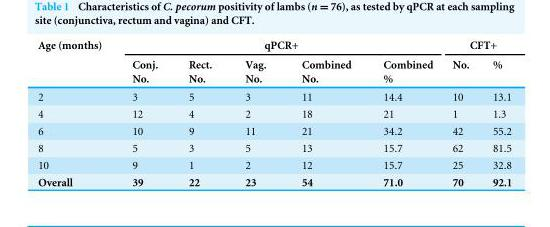table: (37, 37, 511, 188)
table column: (283, 37, 366, 188), (37, 37, 116, 188), (366, 37, 441, 188), (116, 37, 172, 188), (227, 37, 283, 188), (172, 37, 227, 188), (441, 37, 480, 188), (480, 37, 511, 188)
table column header: (37, 37, 511, 86)
table row: (37, 53, 511, 86), (37, 86, 511, 104), (37, 104, 511, 121), (37, 121, 511, 138), (37, 138, 511, 155), (37, 155, 511, 172), (37, 37, 511, 53), (37, 172, 511, 188)
table spanning cell: (116, 37, 441, 53), (37, 37, 116, 86), (441, 37, 511, 53)
